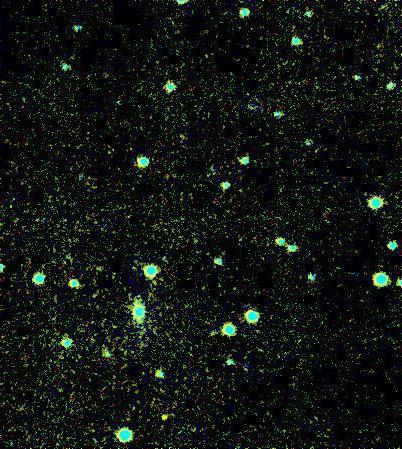star: (149, 403, 179, 433)
